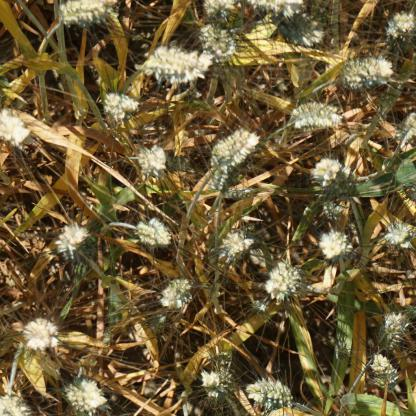whd: (144, 44, 212, 82), (209, 128, 260, 172), (340, 56, 394, 90), (58, 0, 121, 28), (64, 377, 107, 414), (277, 14, 326, 46), (246, 377, 294, 408), (265, 262, 302, 302), (290, 101, 343, 128), (211, 230, 254, 262), (22, 316, 60, 351), (56, 221, 88, 260), (200, 24, 236, 57), (134, 218, 172, 249), (0, 107, 29, 147), (104, 91, 140, 121), (371, 353, 400, 390), (159, 278, 193, 309), (318, 228, 352, 258), (136, 144, 166, 177), (250, 0, 310, 16), (384, 220, 416, 250), (322, 165, 351, 198), (383, 312, 407, 350), (200, 370, 229, 401), (310, 158, 342, 186), (384, 11, 415, 39), (203, 0, 239, 20), (247, 248, 283, 267), (1, 394, 32, 416), (213, 348, 232, 382), (394, 112, 416, 141), (336, 170, 354, 199), (208, 165, 228, 190), (222, 186, 255, 200), (290, 396, 316, 413), (323, 200, 345, 220), (149, 313, 167, 335), (166, 156, 188, 172), (334, 342, 349, 361), (102, 328, 114, 348), (251, 299, 267, 311)
